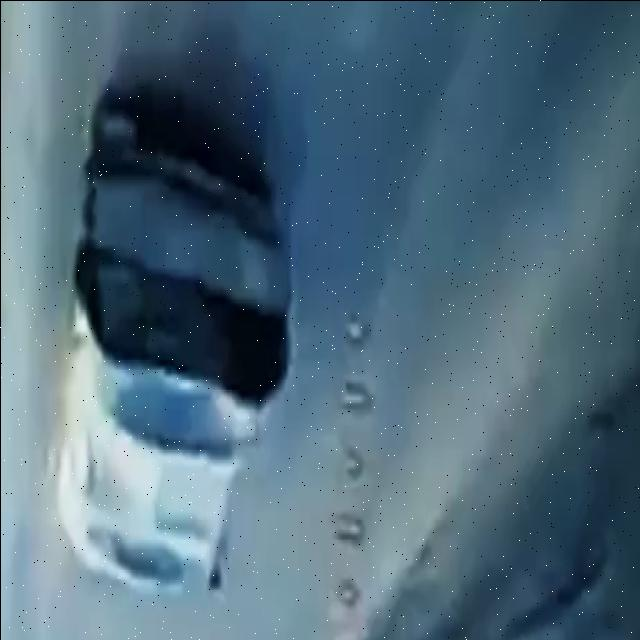TRUCK: (46, 98, 298, 606)
